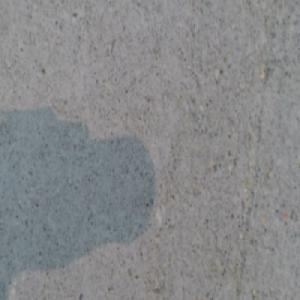Washer: (157, 290, 180, 299)
